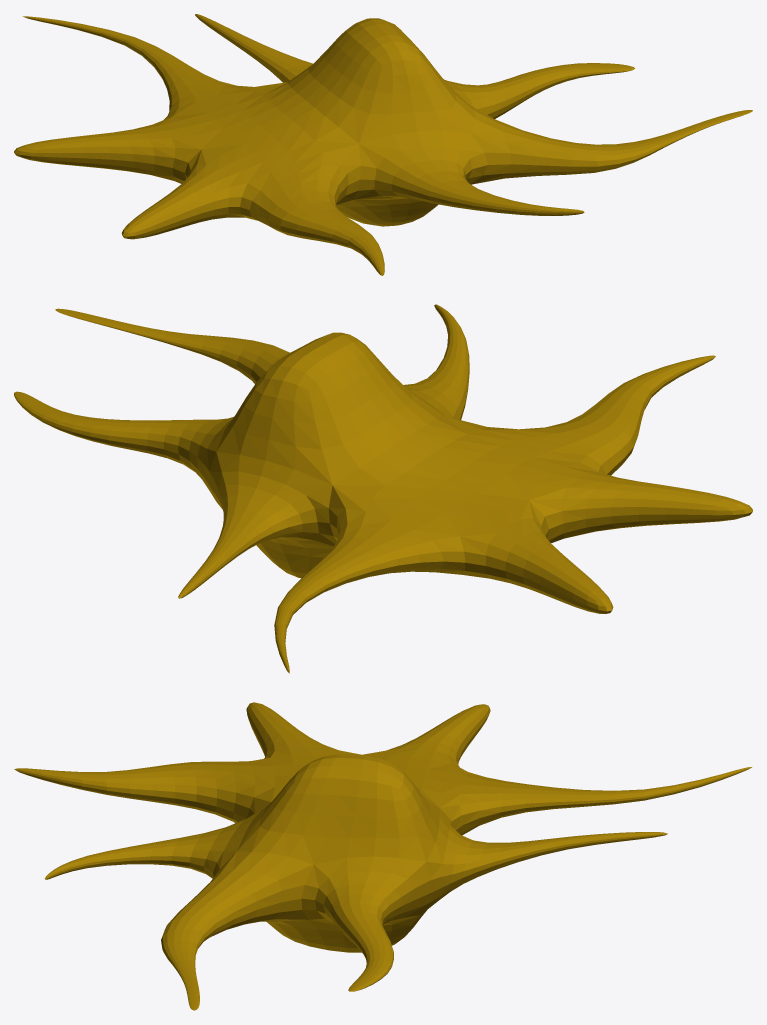
The model's file is fibro.dae.
3 renders of one model, top to bottom at view 1: azimuth 30°, elevation 25°; view 2: azimuth 150°, elevation 25°; view 3: azimuth 270°, elevation 25°, orthographic. The views are drawn at different scales.
Visible parts, largest first — view 1: polymsh; view 2: polymsh; view 3: polymsh.
Part boxes in pixels (left/top/right/bottom): polymsh: left=14, top=14, right=752, bottom=275; polymsh: left=14, top=304, right=752, bottom=673; polymsh: left=14, top=702, right=751, bottom=1010.
Bounding box in the file's own units: 36.62 × 37.46 × 10.76.
